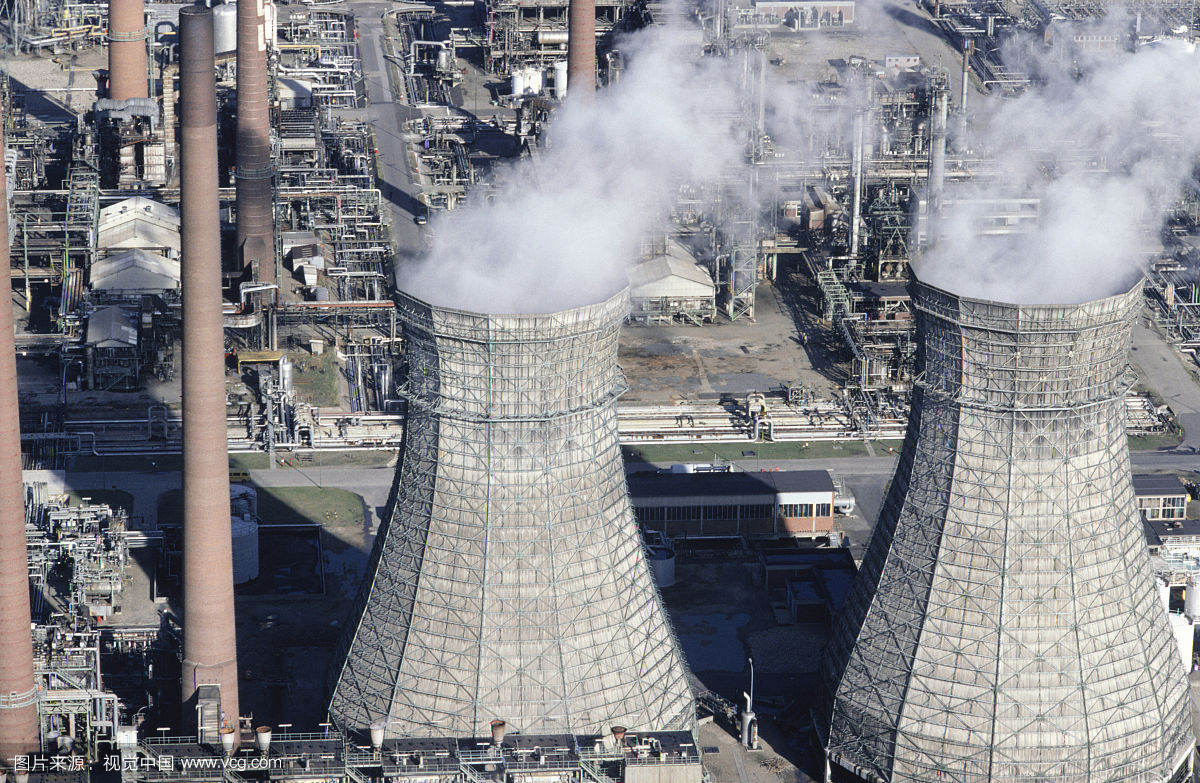dust: (380, 37, 789, 337), (898, 69, 1186, 327)
